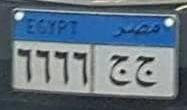6: (71, 50, 90, 88), (15, 45, 33, 85), (35, 47, 52, 83), (53, 47, 69, 85)
jeem: (134, 52, 158, 90), (108, 52, 132, 89)
